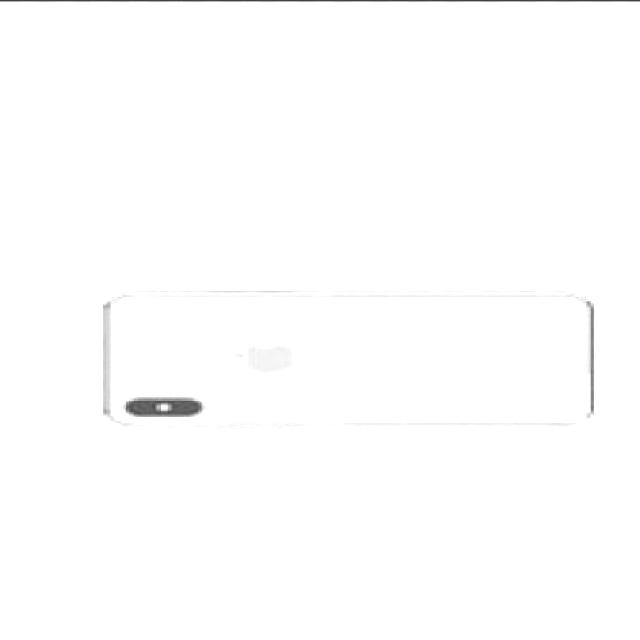fake: (103, 286, 599, 428)
